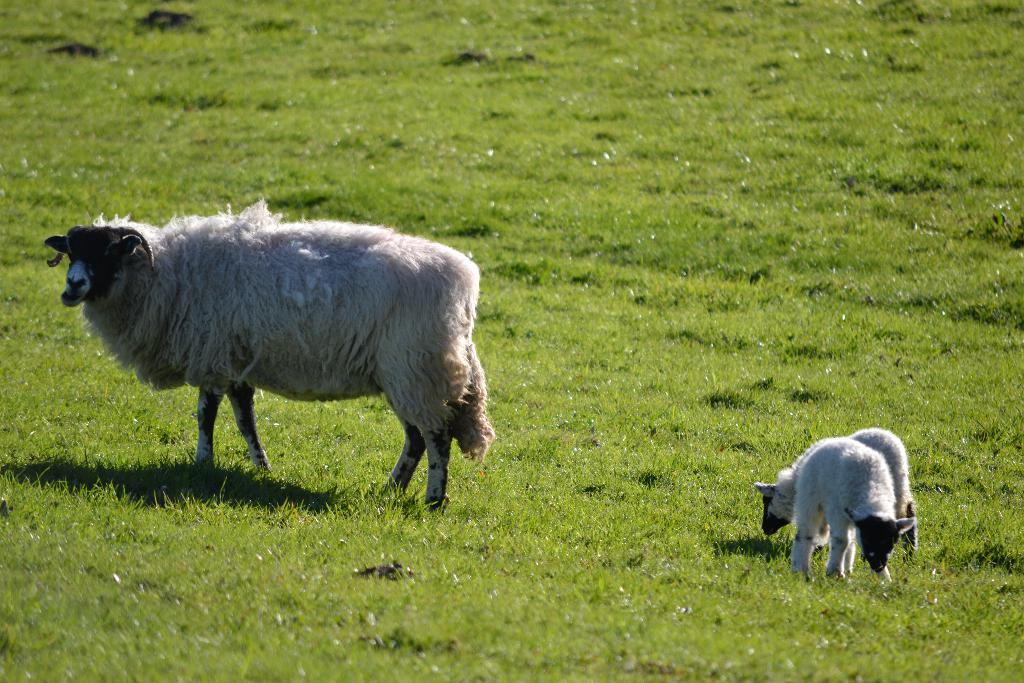sheep: (44, 190, 494, 514), (791, 438, 917, 582)
